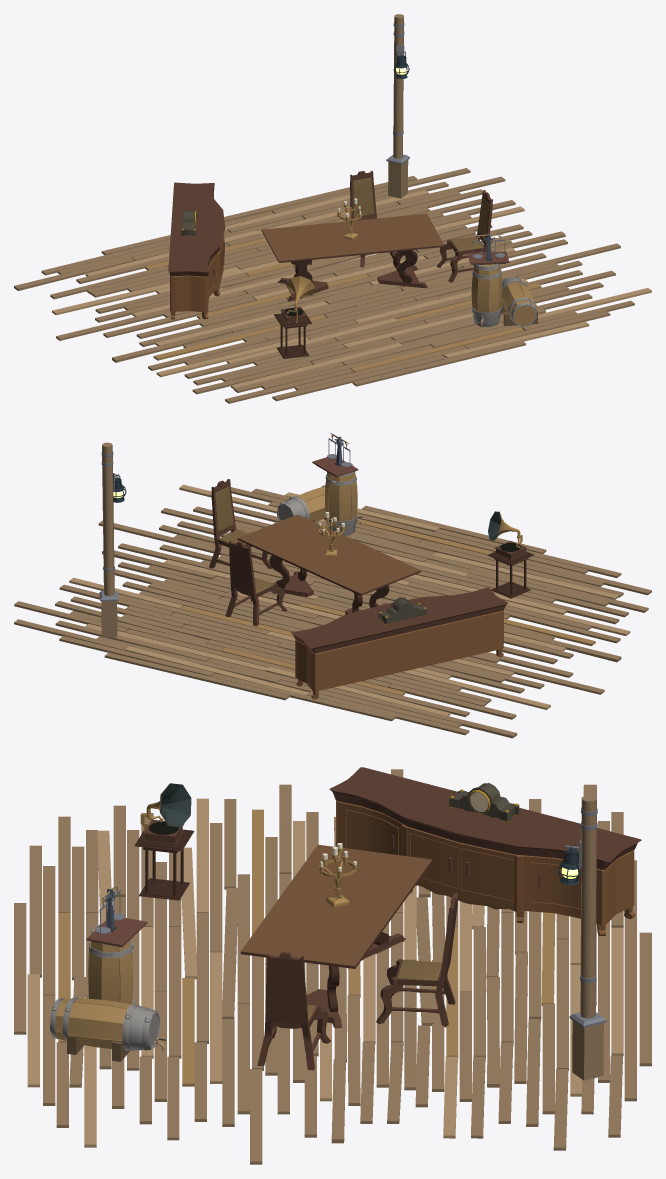
The model's file is bar_scene.glb.
3 views of the same model, one above another, from view 1: azimuth 30°, elevation 25°; view 2: azimuth 150°, elevation 25°; view 3: azimuth 270°, elevation 25° (orthographic). The views are drawn at different scales.
Visible parts, largest first — view 1: polySurface499, pCube17, polySurface770, polySurface753, polySurface313, pCube91, polySurface741, polySurface592, polySurface748, polySurface693, polySurface599, polySurface691; view 2: polySurface499, polySurface753, pCube17, polySurface770, polySurface748, pCube91, polySurface741, polySurface313, polySurface693, polySurface592, polySurface764, polySurface599 (+3 smaller); view 3: polySurface499, pCube17, polySurface753, polySurface770, polySurface592, polySurface741, pCube91, polySurface693, polySurface748, polySurface313, polySurface764, polySurface691 (+3 smaller).
Boxes of the visible parts, x1=… form: polySurface499: x1=14, y1=168, x2=651, y2=403; pCube17: x1=261, y1=213, x2=444, y2=301; polySurface770: x1=168, y1=182, x2=225, y2=272; polySurface753: x1=170, y1=192, x2=223, y2=312; polySurface313: x1=471, y1=263, x2=502, y2=327; pCube91: x1=274, y1=276, x2=315, y2=358; polySurface741: x1=437, y1=190, x2=492, y2=282; polySurface592: x1=501, y1=276, x2=537, y2=326; polySurface748: x1=350, y1=171, x2=395, y2=267; polySurface693: x1=393, y1=14, x2=403, y2=158; polySurface599: x1=467, y1=233, x2=509, y2=265; polySurface691: x1=388, y1=160, x2=408, y2=198; polySurface499: x1=14, y1=484, x2=651, y2=738; polySurface753: x1=295, y1=610, x2=503, y2=691; pCube17: x1=237, y1=514, x2=420, y2=614; polySurface770: x1=291, y1=587, x2=508, y2=649; polySurface748: x1=225, y1=540, x2=287, y2=626; pCube91: x1=487, y1=511, x2=534, y2=598; polySurface741: x1=209, y1=479, x2=271, y2=568; polySurface313: x1=325, y1=463, x2=362, y2=535; polySurface693: x1=102, y1=442, x2=114, y2=596; polySurface592: x1=277, y1=485, x2=325, y2=521; polySurface764: x1=293, y1=605, x2=505, y2=653; polySurface599: x1=312, y1=433, x2=358, y2=477; polySurface499: x1=14, y1=769, x2=651, y2=1164; pCube17: x1=240, y1=844, x2=432, y2=1028; polySurface753: x1=336, y1=800, x2=634, y2=925; polySurface770: x1=329, y1=767, x2=641, y2=863; polySurface592: x1=50, y1=997, x2=166, y2=1061; polySurface741: x1=257, y1=952, x2=330, y2=1070; pCube91: x1=134, y1=783, x2=194, y2=900; polySurface693: x1=580, y1=795, x2=596, y2=1018; polySurface748: x1=376, y1=892, x2=457, y2=1027; polySurface313: x1=87, y1=923, x2=134, y2=1004; polySurface764: x1=333, y1=792, x2=637, y2=869; polySurface691: x1=572, y1=1020, x2=603, y2=1080.
Size of the model in its own units: 147 by 49.23 by 101.
